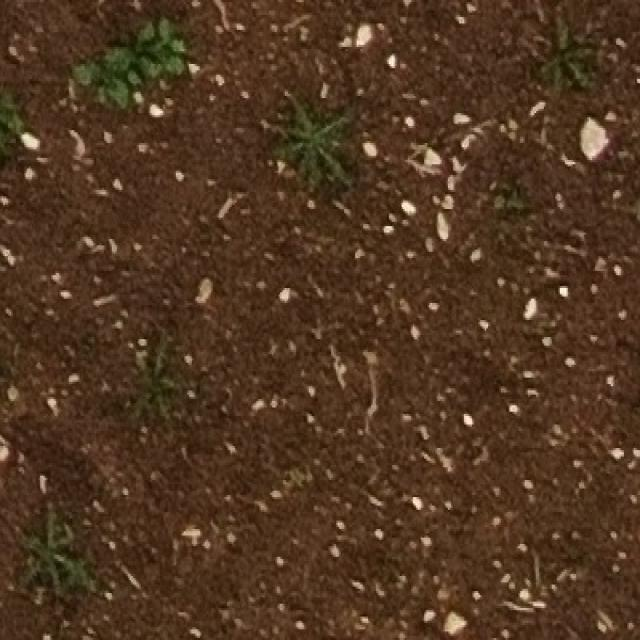cirse: (274, 75, 345, 195), (290, 86, 361, 199), (281, 84, 352, 196), (548, 9, 614, 112), (16, 516, 77, 626), (548, 7, 613, 110), (19, 471, 79, 581), (16, 501, 79, 603), (562, 13, 626, 112), (128, 336, 192, 423), (122, 342, 185, 422), (127, 367, 186, 448)
